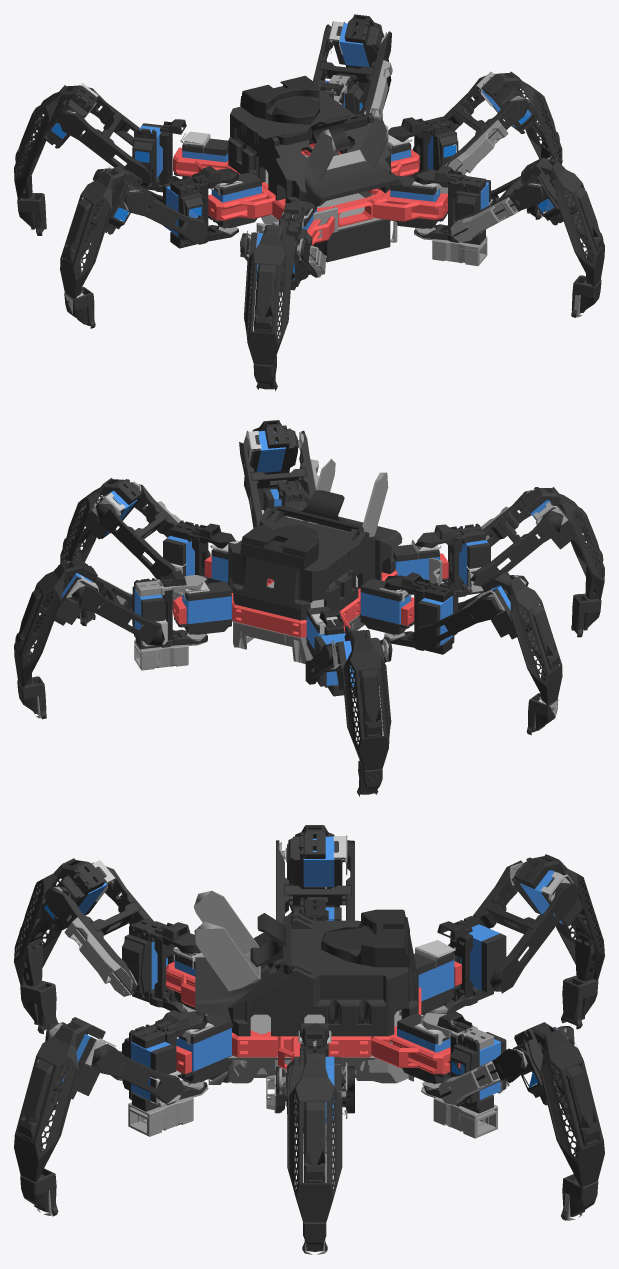
File: model-lite.glb
The picture shows the model from 3 angles, top to bottom: view 1: azimuth 30°, elevation 25°; view 2: azimuth 150°, elevation 25°; view 3: azimuth 270°, elevation 25°; orthographic projection. The views are drawn at different scales.
Parts seen in each view (by area): view 1: Body4, Body1:14, Body7, Body1, Body31, Body1:7; view 2: Body4, Body1:14, Body7, Body31, Body1, Body1:7; view 3: Body4, Body1:14, Body7, Body31, Body1, Body1:7.
Part boxes in pixels (x1,y1,x2,y2): Body4: (16,22,604,390); Body1:14: (14,14,490,248); Body7: (59,21,582,317); Body1: (173,143,447,245); Body31: (51,23,554,281); Body1:7: (64,21,551,322); Body4: (16,420,604,796); Body1:14: (14,490,499,770); Body7: (36,430,567,718); Body31: (61,430,550,688); Body1: (173,553,448,637); Body1:7: (68,431,567,728); Body4: (14,825,599,1252); Body1:14: (250,840,604,1187); Body7: (37,835,582,1254); Body31: (53,836,562,1122); Body1: (166,961,461,1074); Body1:7: (87,836,570,1107).
Size of the model in its own units: 49.59 by 17.38 by 43.1.
